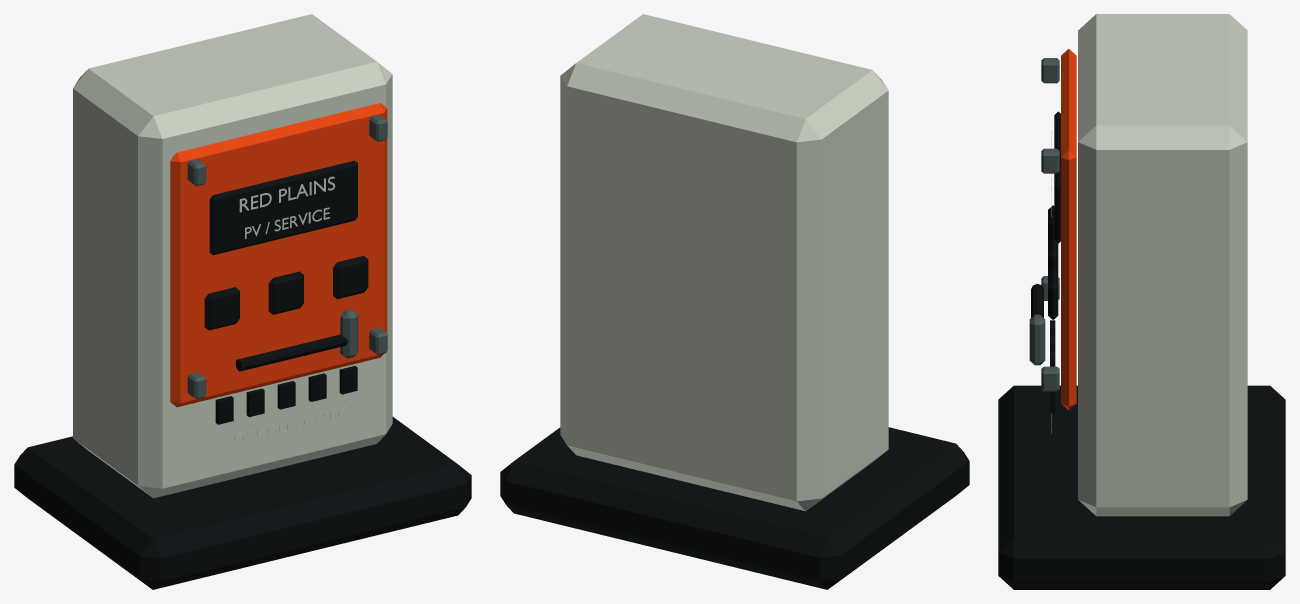
Rendered from SM_MP_Combiner.fbx.
3 views of the same model, side by side, from view 1: azimuth 30°, elevation 25°; view 2: azimuth 150°, elevation 25°; view 3: azimuth 270°, elevation 25° (orthographic). The views are drawn at different scales.
Parts seen in each view (by area): view 1: SM_MP_Combiner; view 2: SM_MP_Combiner; view 3: SM_MP_Combiner.
Boxes of the visible parts, left/top/right/bottom form: SM_MP_Combiner: left=14, top=14, right=471, bottom=589; SM_MP_Combiner: left=500, top=14, right=969, bottom=589; SM_MP_Combiner: left=998, top=14, right=1285, bottom=589.
Size of the model in its own units: 150 by 110 by 187.
1 material, 1 textured.
